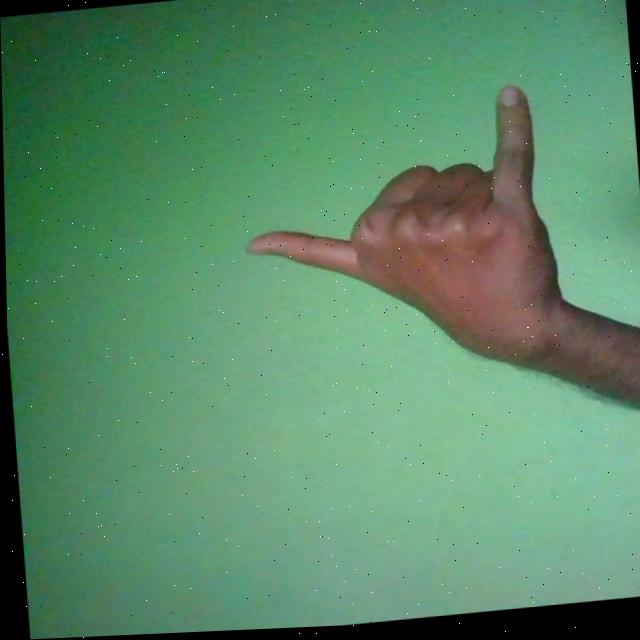Call Me: (234, 87, 565, 397)
